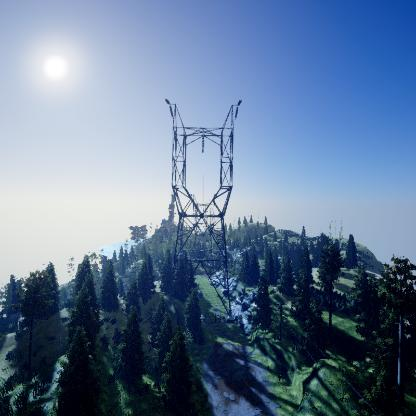tower: (160, 96, 246, 324)
